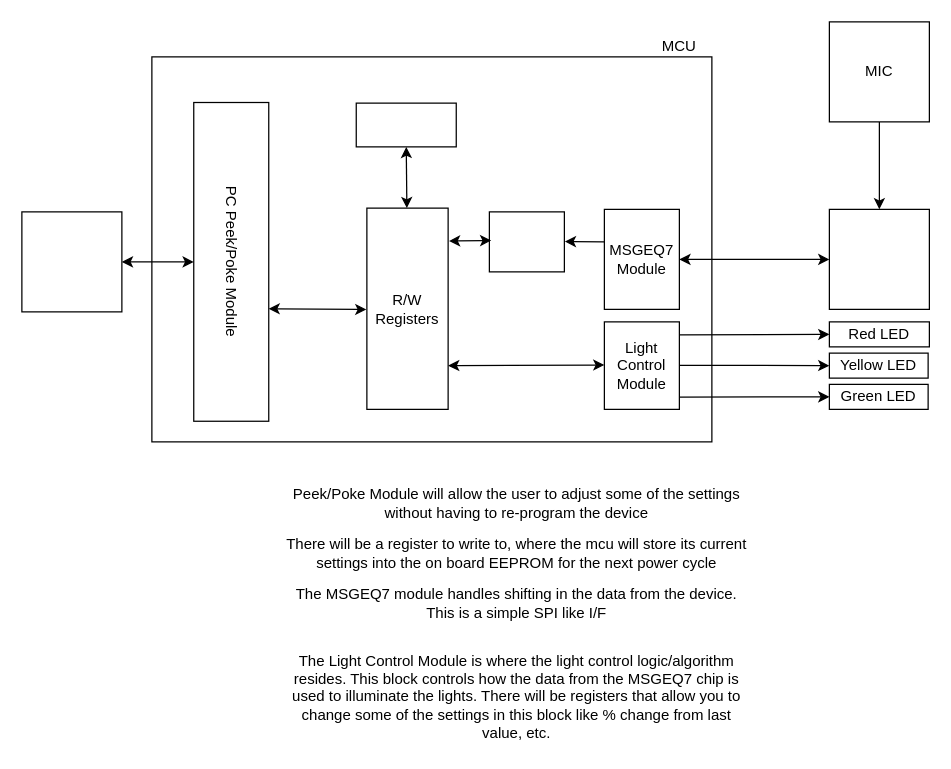
Image size: 951x769. Some labels were removed from this diagram. The shapes that lost their labels are listed below. From the top down, each one's centre as x and y in pixels, then its label:
At point 405,124: "EEPROM".
At point 71,261: "PC".
At point 526,241: "Averager".
At point 878,258: "Filter IC".
